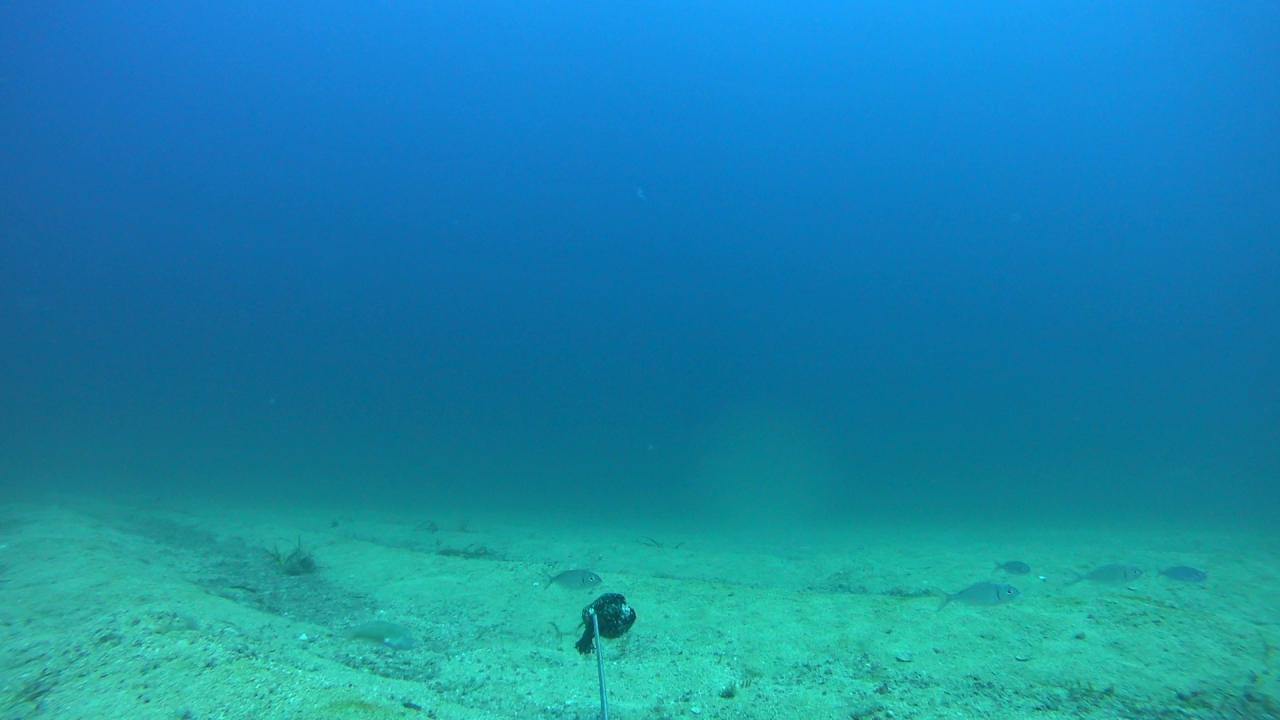pagellus: (935, 580, 1023, 613), (1068, 563, 1144, 586), (541, 565, 601, 590), (989, 558, 1031, 578)
raor: (340, 617, 424, 652)
